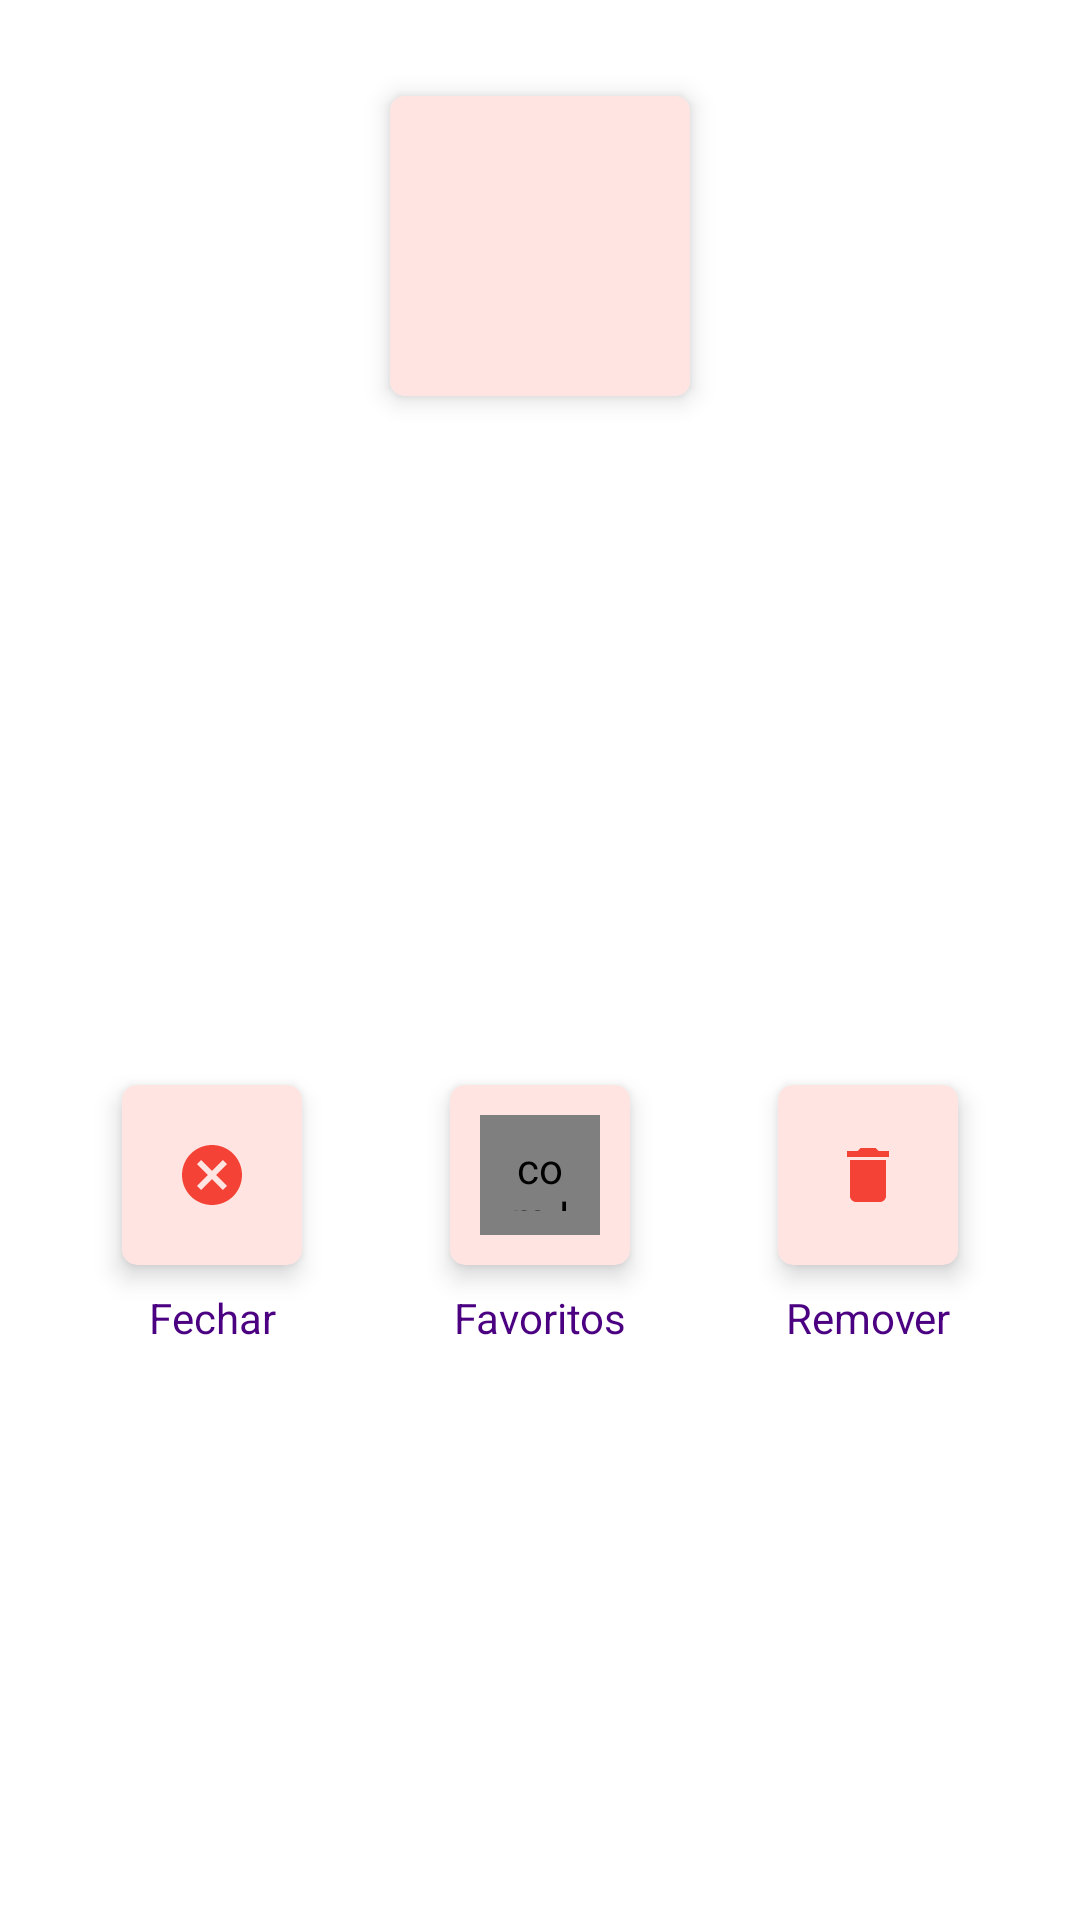

Screen size 1080px×1920px. Icon name, then its center in pixels as [x,y]:
cancelar: [212,1175]
delete: [868,1175]
